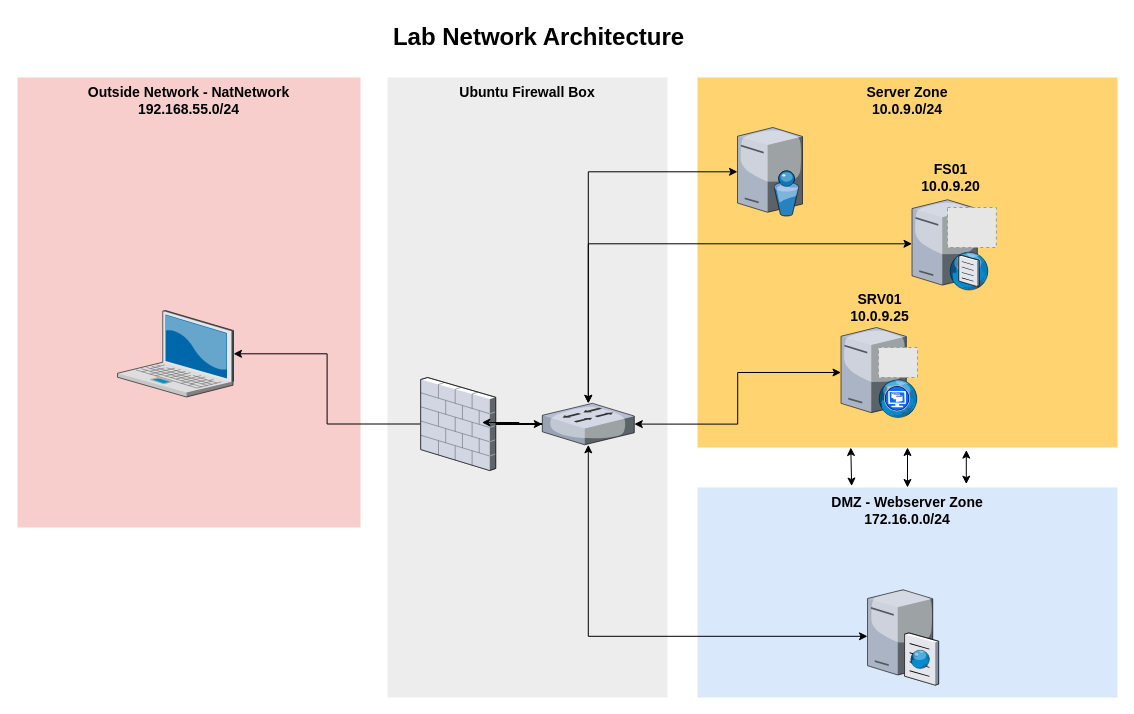
Image size: 1134x714. Some labels were removed from this diagram. Grey dashed boxes stand in for pictures. Here are the shapes that lost their labels. From the top down, the centre of each, then its label:
At (x=769, y=171): "DC01 10.0.9.10".
At (x=175, y=353): "KALI".
At (x=902, y=635): "web01 172.16.0.10".
